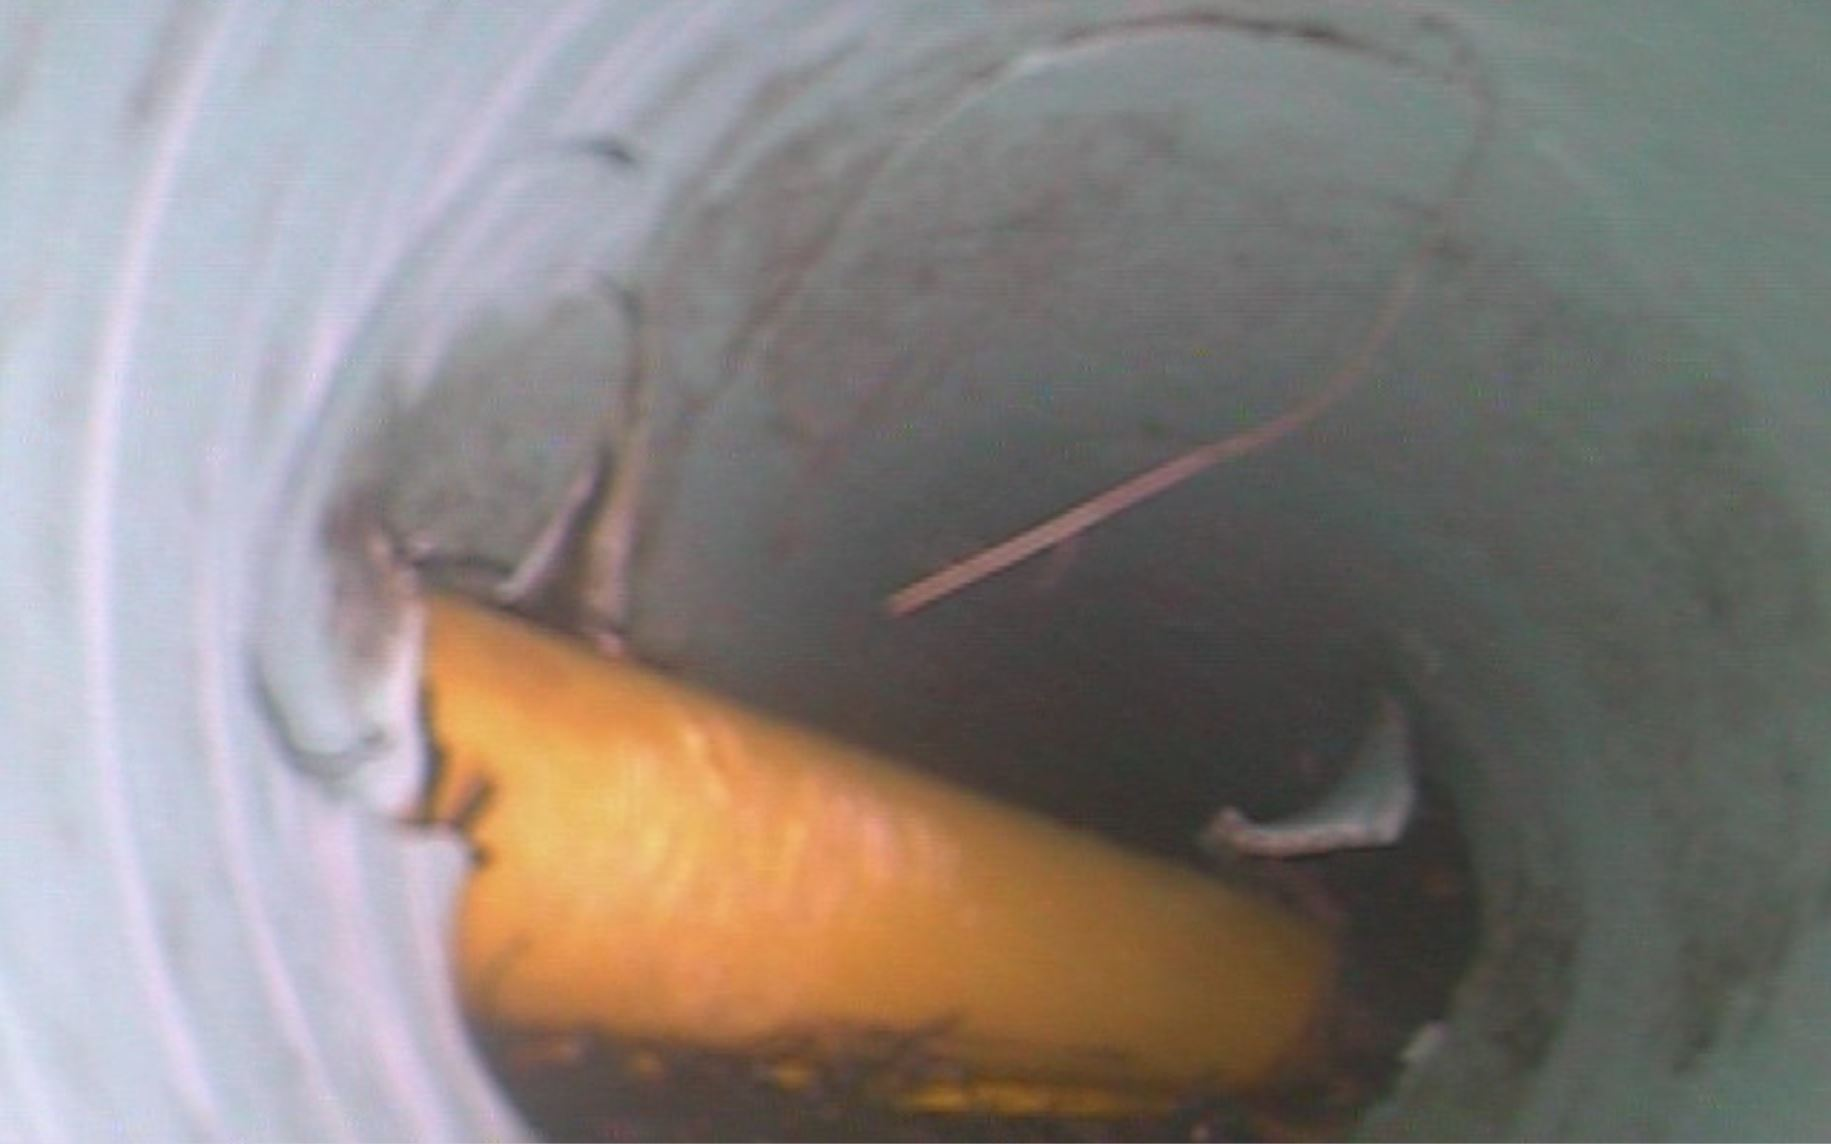cb: (325, 529, 1380, 1120)
